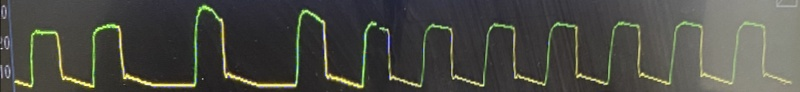normal_pressure: (20, 3, 796, 92)
